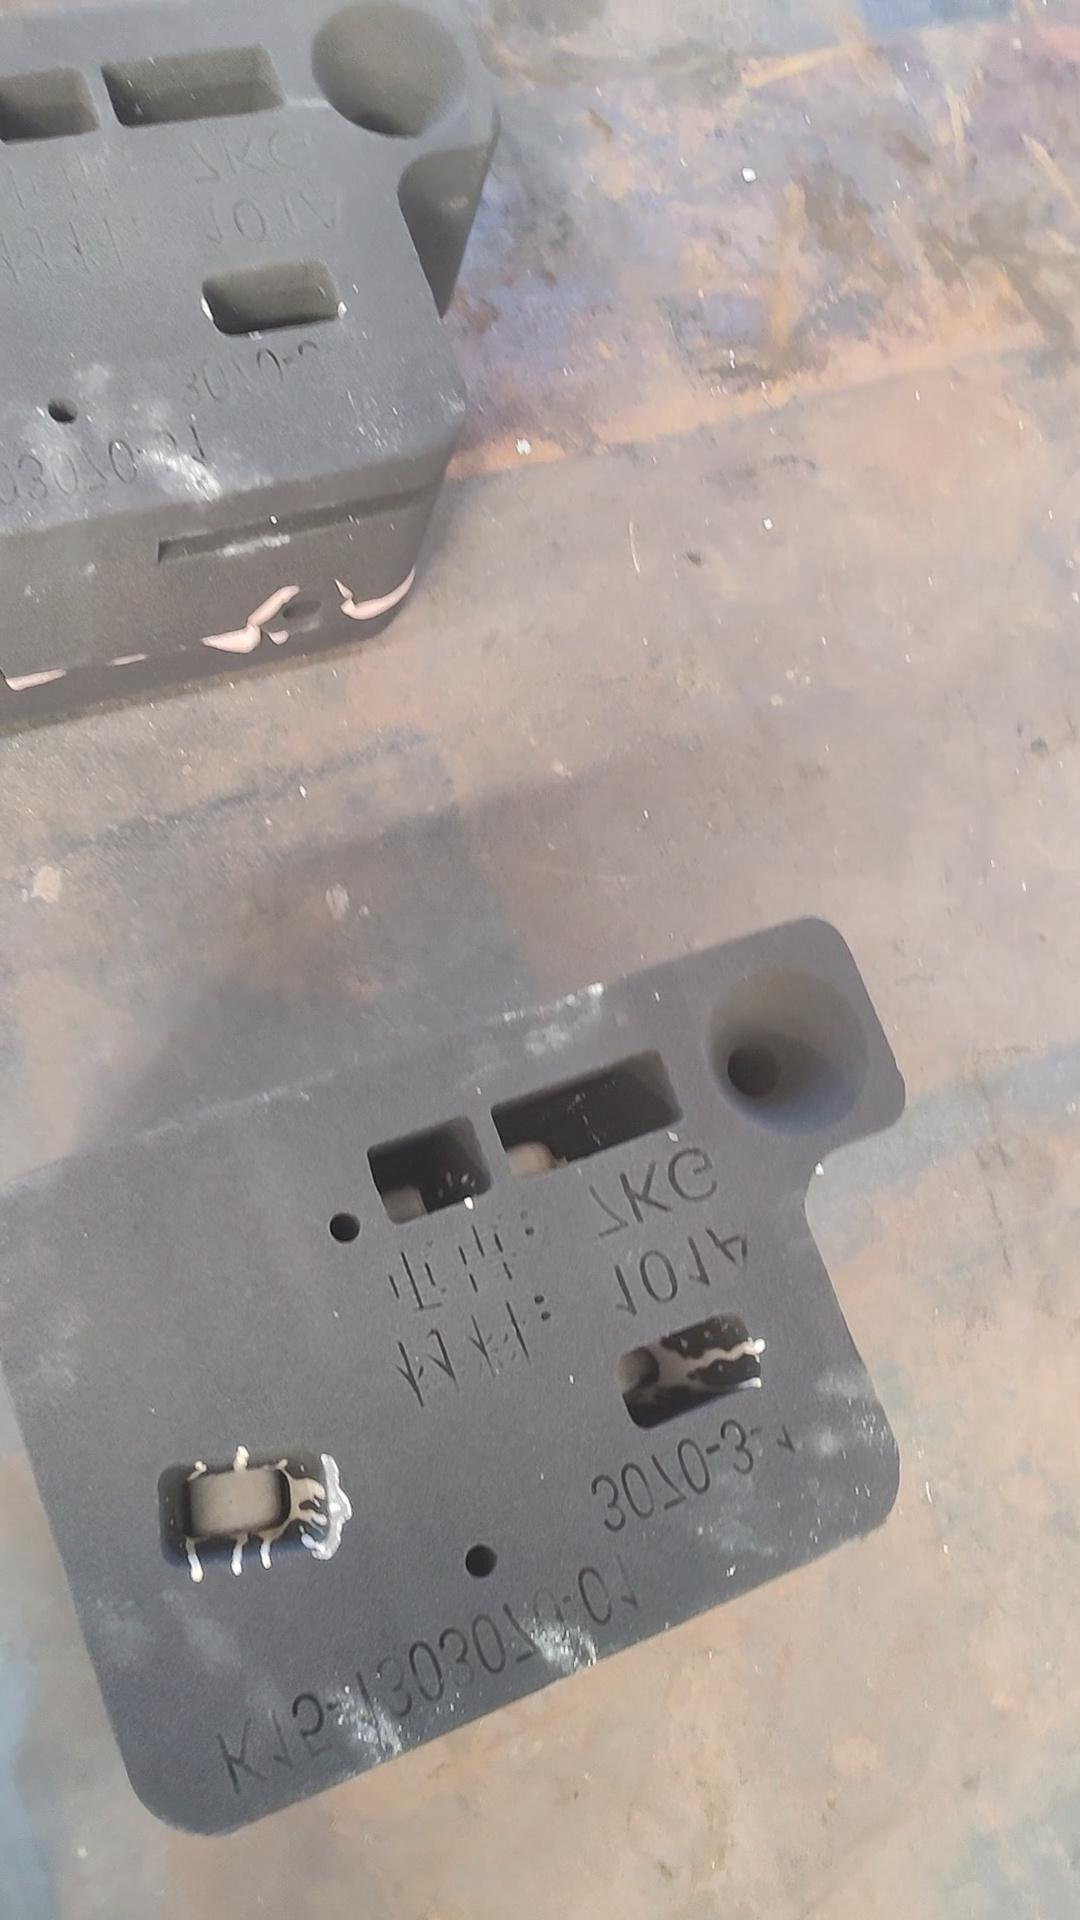pouring hole: (707, 967, 870, 1135), (314, 1, 469, 140)
